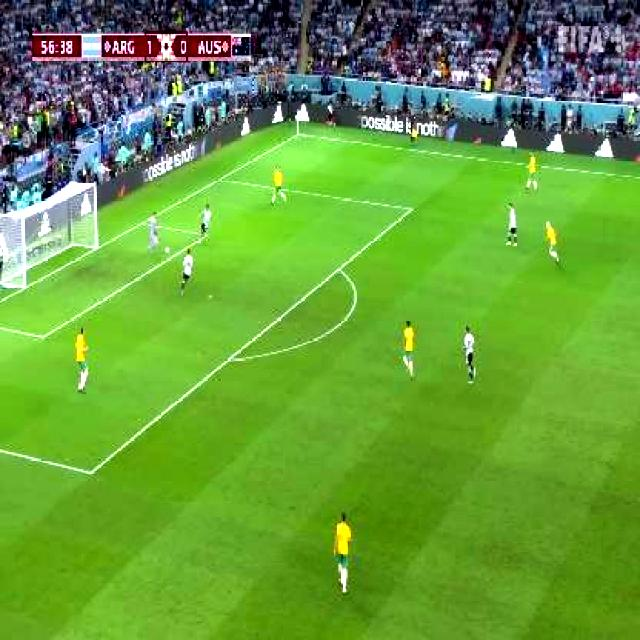bigarea_bottom_inner: (82, 460, 98, 483)
bigarea_top_inner: (403, 200, 417, 217)
bigarea_top_outter: (214, 170, 226, 184)
bottom_arc_area_intersection: (221, 348, 237, 368)
corner: (291, 128, 306, 140)
smallarea_bottom_inner: (34, 324, 51, 348)
smallarea_top_inner: (197, 226, 209, 242)
smallarea_top_outter: (136, 214, 150, 231)
top_arc_area_intersection: (330, 258, 344, 276)
